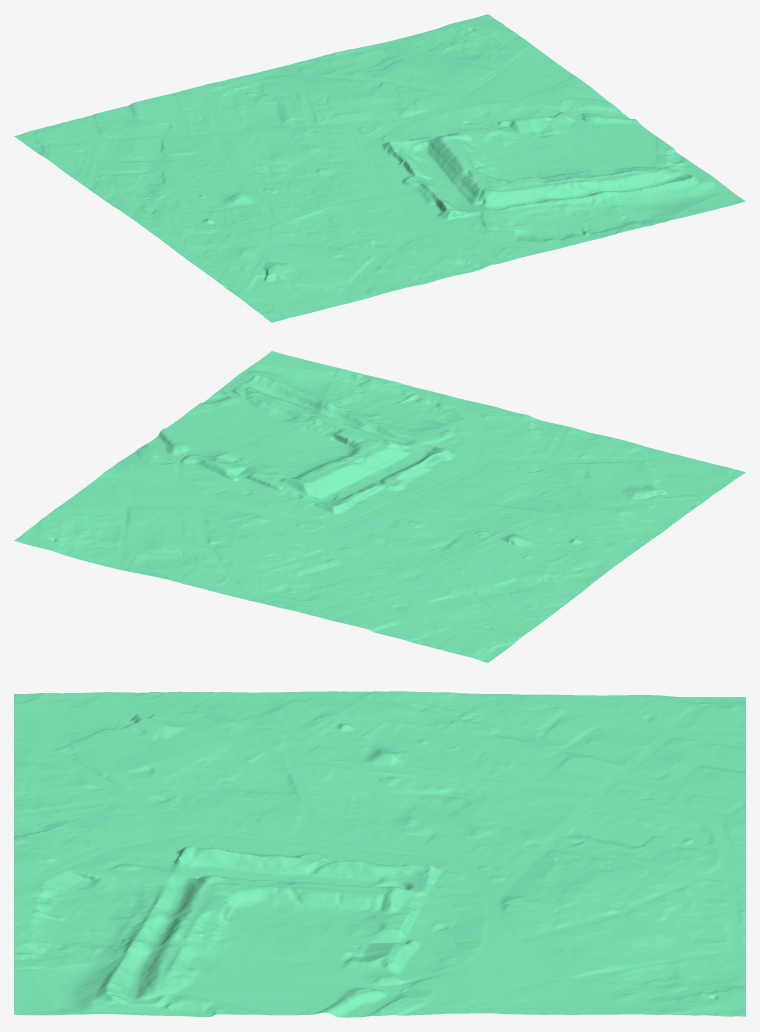
File: haapsalu_dtm_1m.glb
The picture shows the model from 3 angles, top to bottom: view 1: azimuth 30°, elevation 25°; view 2: azimuth 150°, elevation 25°; view 3: azimuth 270°, elevation 25°; orthographic projection. The views are drawn at different scales.
Visible parts, largest first — view 1: HaapsaluDTM1m; view 2: HaapsaluDTM1m; view 3: HaapsaluDTM1m.
Part boxes in pixels (x1,y1,x2,y2): HaapsaluDTM1m: (14,14,745,322); HaapsaluDTM1m: (14,351,745,662); HaapsaluDTM1m: (14,691,745,1017).
Bounding box in the file's own units: 426 × 12.98 × 401.
